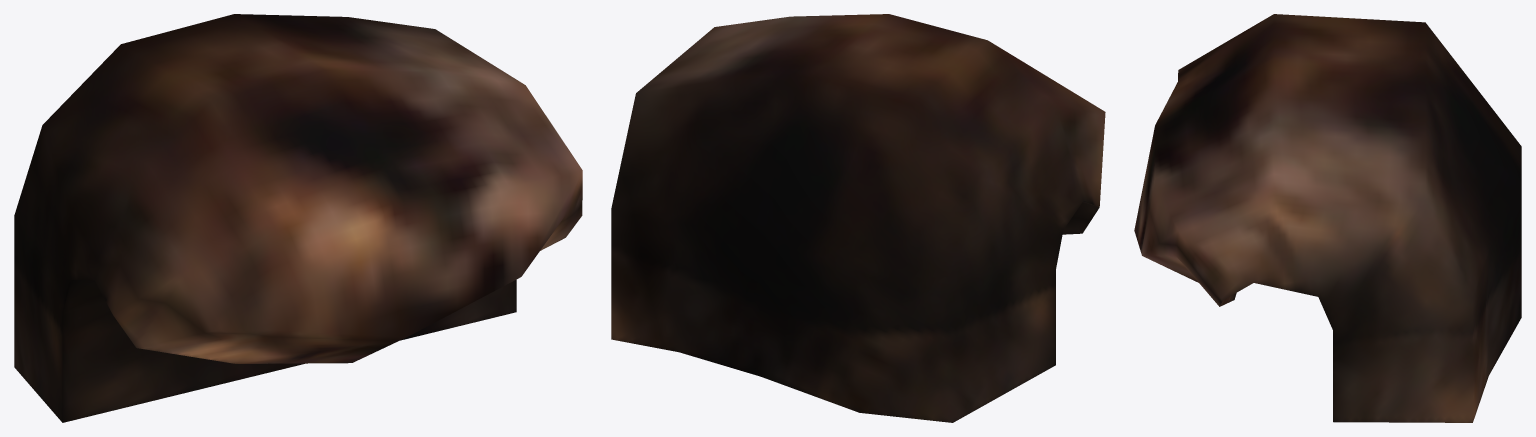
File: Pelt of animal skin.fbx
3 renders of one model, left to right at view 1: azimuth 30°, elevation 25°; view 2: azimuth 150°, elevation 25°; view 3: azimuth 270°, elevation 25°, orthographic. The views are drawn at different scales.
Visible parts, largest first — view 1: Rack_pelt; view 2: Rack_pelt; view 3: Rack_pelt.
Part boxes in pixels (x1=…): Rack_pelt: x1=14, y1=14, x2=582, y2=422; Rack_pelt: x1=611, y1=14, x2=1105, y2=422; Rack_pelt: x1=1134, y1=14, x2=1521, y2=422.
Bounding box in the file's own units: 0.9076 × 0.6438 × 0.7998.
